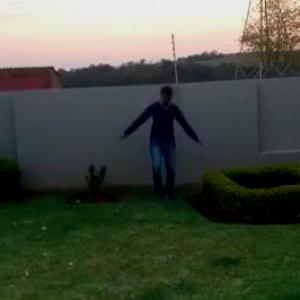land: (118, 86, 206, 208)
